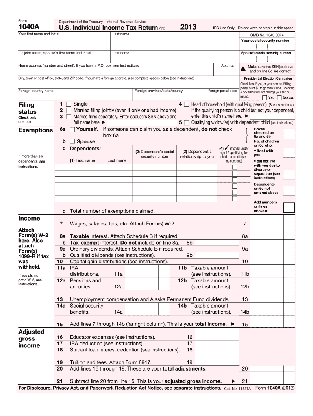checkbox: (182, 119, 190, 126), (230, 163, 238, 170), (230, 169, 238, 176), (230, 176, 238, 183), (230, 188, 238, 195), (64, 107, 72, 113), (64, 113, 72, 119), (68, 126, 76, 132), (68, 137, 76, 143), (182, 101, 190, 107), (260, 95, 268, 101), (230, 182, 238, 188), (230, 195, 238, 201), (65, 101, 72, 107), (275, 94, 282, 100)
textbox: (15, 74, 241, 90), (15, 61, 217, 77), (109, 29, 242, 52), (108, 47, 242, 65), (13, 85, 134, 102), (17, 30, 111, 51), (15, 47, 112, 65), (130, 86, 208, 102), (238, 48, 298, 65), (238, 35, 297, 52), (53, 161, 134, 171), (53, 180, 134, 190), (54, 186, 134, 196), (192, 325, 241, 341), (248, 370, 297, 386), (123, 263, 171, 279), (123, 275, 171, 291), (123, 300, 171, 316), (192, 351, 240, 367), (53, 174, 134, 183), (53, 193, 134, 202), (53, 168, 133, 177), (103, 117, 178, 126), (248, 212, 286, 229), (247, 237, 285, 254), (247, 249, 285, 266), (248, 225, 286, 241), (247, 262, 285, 278), (248, 276, 286, 292), (248, 287, 286, 303), (247, 312, 284, 328), (204, 86, 240, 102), (249, 301, 285, 317), (248, 110, 297, 121), (191, 343, 240, 354), (192, 337, 240, 348), (248, 362, 296, 373), (129, 173, 178, 183), (130, 162, 178, 172), (130, 168, 178, 178), (130, 180, 178, 190), (130, 187, 178, 197), (171, 186, 219, 196), (171, 181, 219, 191), (171, 174, 219, 184), (171, 168, 219, 178), (212, 61, 240, 77), (171, 162, 220, 171), (130, 193, 178, 202), (171, 193, 219, 202), (192, 238, 239, 247), (193, 251, 240, 259), (280, 301, 297, 316), (280, 313, 297, 328), (281, 213, 297, 228), (281, 227, 297, 242), (281, 238, 297, 253), (281, 251, 297, 266), (281, 263, 297, 278), (281, 276, 297, 291), (281, 289, 297, 304), (282, 201, 295, 214), (282, 170, 296, 181), (282, 186, 296, 197), (282, 129, 296, 139), (282, 149, 295, 159)
